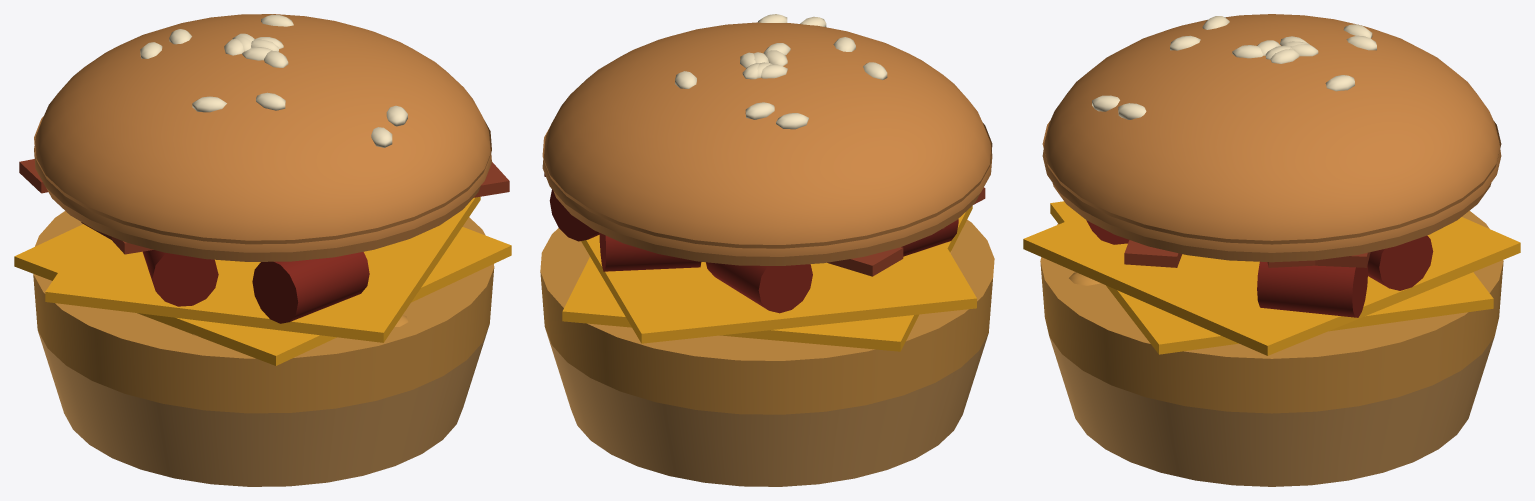
The model's file is burger-pollo-chorizo.glb.
3 views of the same model, side by side, from view 1: azimuth 30°, elevation 25°; view 2: azimuth 150°, elevation 25°; view 3: azimuth 270°, elevation 25° (orthographic).
Size of the model in its own units: 0.1617 by 0.128 by 0.1617.
